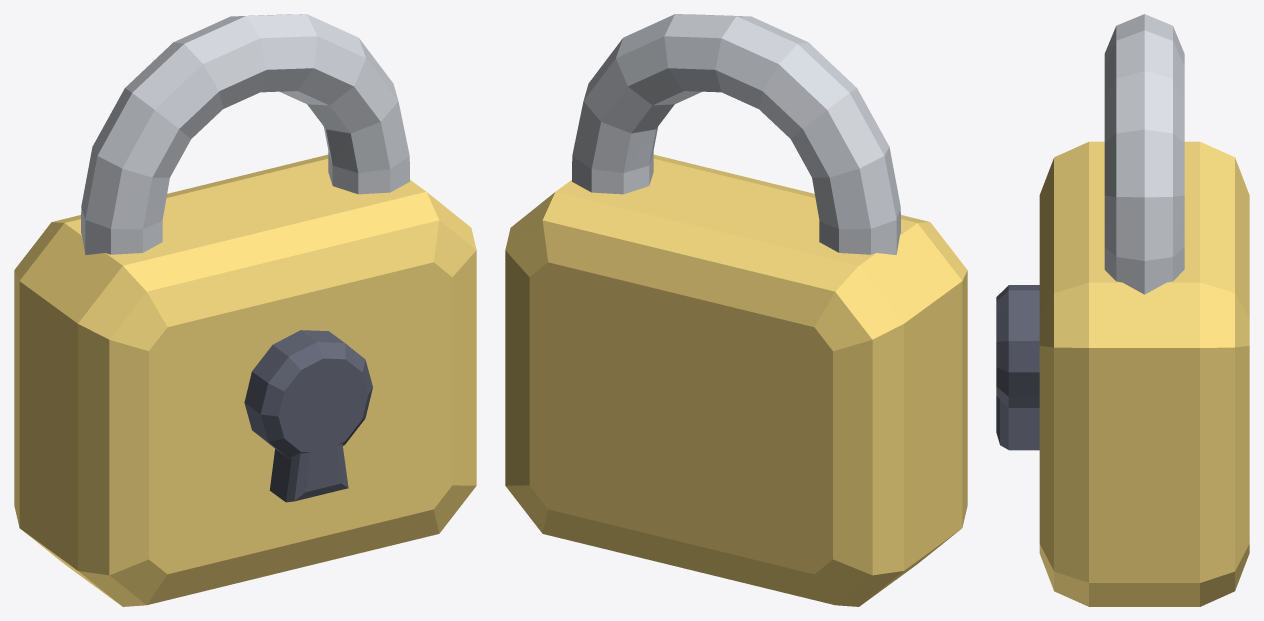
File: game-ui-icon-library-padlock-dd4b06fa__19018.glb
3 renders of one model, left to right at view 1: azimuth 30°, elevation 25°; view 2: azimuth 150°, elevation 25°; view 3: azimuth 270°, elevation 25°, orthographic. The views are drawn at different scales.
Visible parts, largest first — view 1: padlock; view 2: padlock; view 3: padlock.
Boxes of the visible parts, x1=… form: padlock: x1=14, y1=14, x2=476, y2=606; padlock: x1=505, y1=14, x2=967, y2=606; padlock: x1=996, y1=14, x2=1249, y2=606.
Bounding box in the file's own units: 0.7271 × 0.94 × 0.4258.
